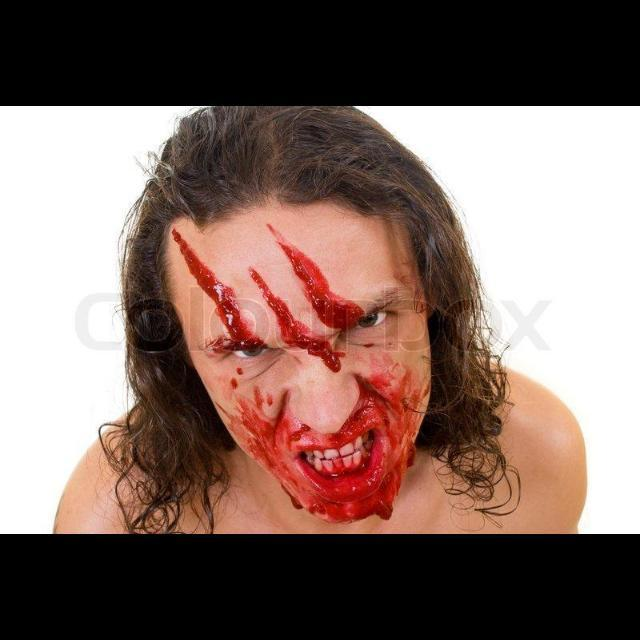blood: (209, 346, 430, 526), (171, 228, 268, 352), (250, 268, 346, 373), (278, 240, 366, 333)
